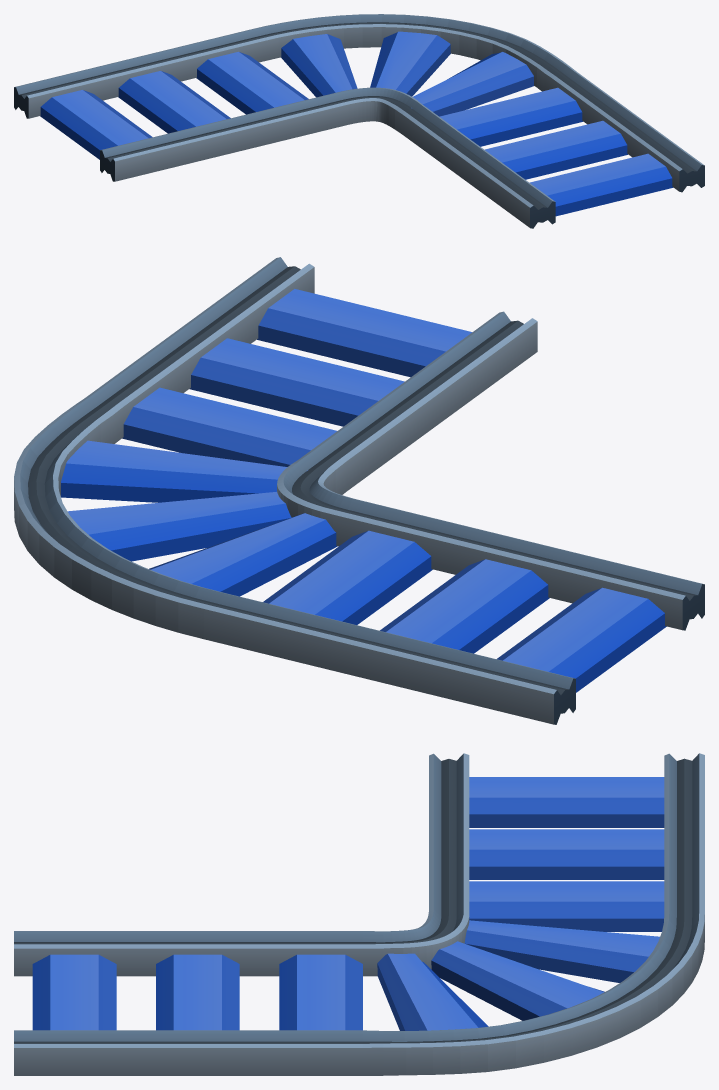
The model's file is 2Br-SolRay.fbx.
The picture shows the model from 3 angles, top to bottom: view 1: azimuth 30°, elevation 25°; view 2: azimuth 150°, elevation 25°; view 3: azimuth 270°, elevation 25°; orthographic projection. The views are drawn at different scales.
Visible parts, largest first — view 1: 2br-Sol; view 2: 2br-Sol; view 3: 2br-Sol.
Boxes of the visible parts, left/top/right/bottom form: 2br-Sol: left=14, top=14, right=704, bottom=228; 2br-Sol: left=14, top=257, right=704, bottom=724; 2br-Sol: left=14, top=753, right=704, bottom=1075.
Bounding box in the file's own units: 375 × 19.17 × 374.
